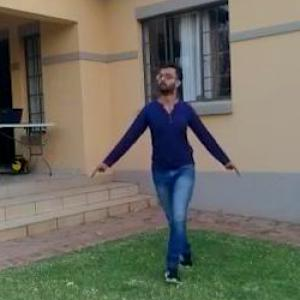land: (114, 79, 218, 245)
